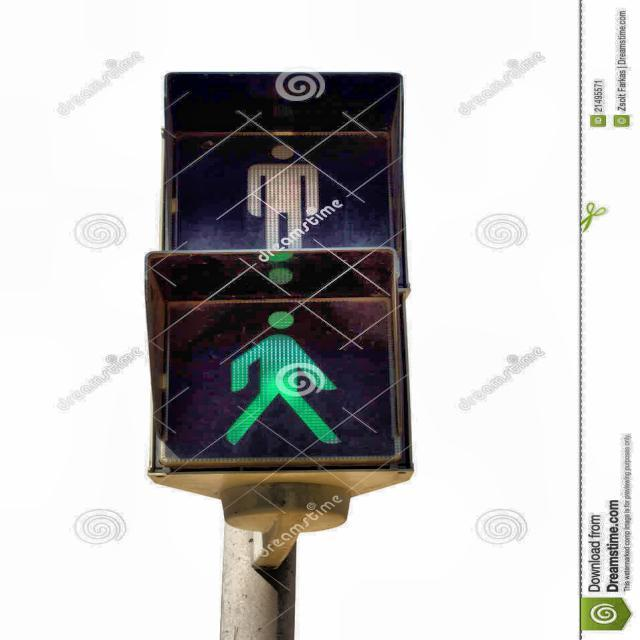green_light: (221, 307, 346, 449)
